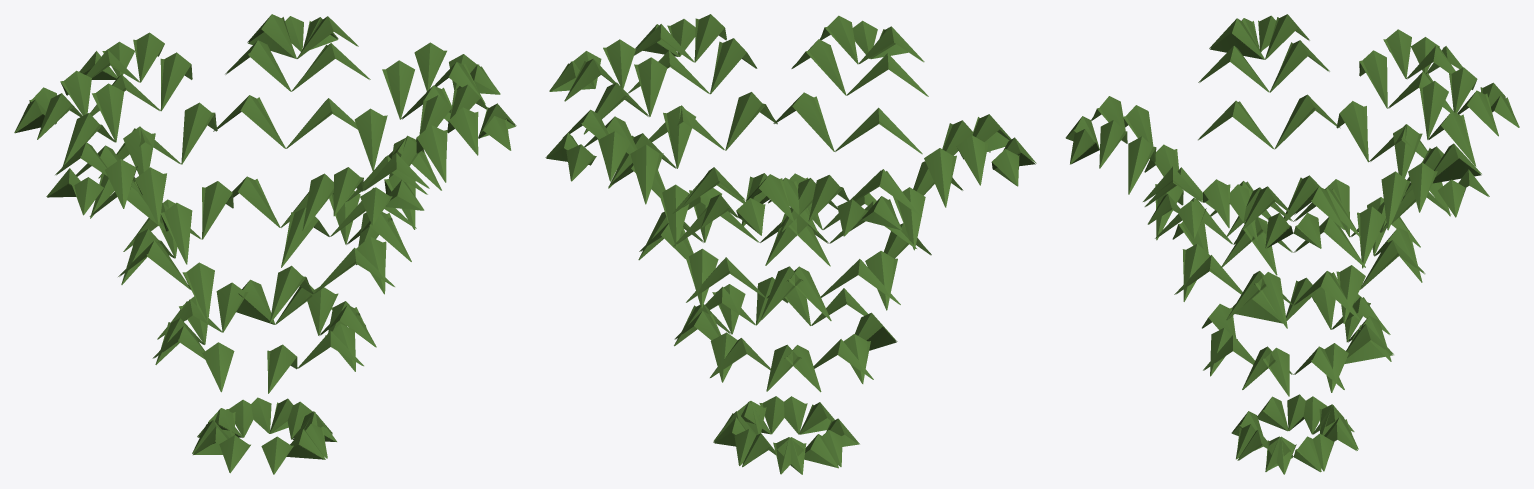
Rendered from Fern.baseline.glb.
3 views of the same model, side by side, from view 1: azimuth 30°, elevation 25°; view 2: azimuth 150°, elevation 25°; view 3: azimuth 270°, elevation 25° (orthographic). The views are drawn at different scales.
Visible parts, largest first — view 1: Fern_L0, Fern_L2, Fern_L1; view 2: Fern_L0, Fern_L2, Fern_L1; view 3: Fern_L0, Fern_L2, Fern_L1.
Part boxes in pixels (bbox=[...]): Fern_L0: bbox=[14, 14, 516, 474]; Fern_L2: bbox=[15, 17, 515, 459]; Fern_L1: bbox=[15, 29, 515, 460]; Fern_L0: bbox=[545, 14, 1036, 474]; Fern_L2: bbox=[546, 18, 1035, 473]; Fern_L1: bbox=[546, 25, 1033, 467]; Fern_L0: bbox=[1065, 14, 1519, 474]; Fern_L2: bbox=[1066, 17, 1493, 471]; Fern_L1: bbox=[1071, 21, 1518, 471].
Bounding box in the file's own units: 1 × 0.7511 × 0.9.
